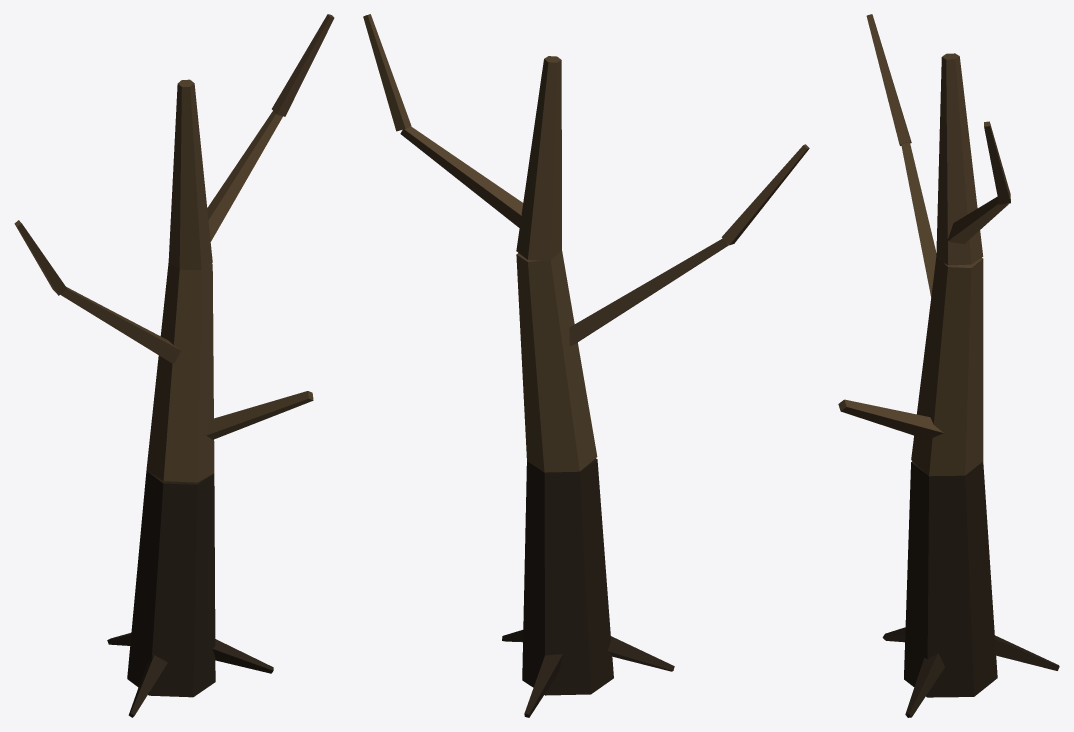
Rendered from hushwood_dead_tree.glb.
3 views of the same model, side by side, from view 1: azimuth 30°, elevation 25°; view 2: azimuth 150°, elevation 25°; view 3: azimuth 270°, elevation 25° (orthographic). The views are drawn at different scales.
Visible parts, largest first — view 1: hushwood_dead_tree; view 2: hushwood_dead_tree; view 3: hushwood_dead_tree.
Part boxes in pixels (x1,y1,x2,y2): hushwood_dead_tree: [14, 14, 334, 717]; hushwood_dead_tree: [363, 14, 809, 717]; hushwood_dead_tree: [838, 14, 1059, 717].
Size of the model in its own units: 2.53 by 3.97 by 1.23.
